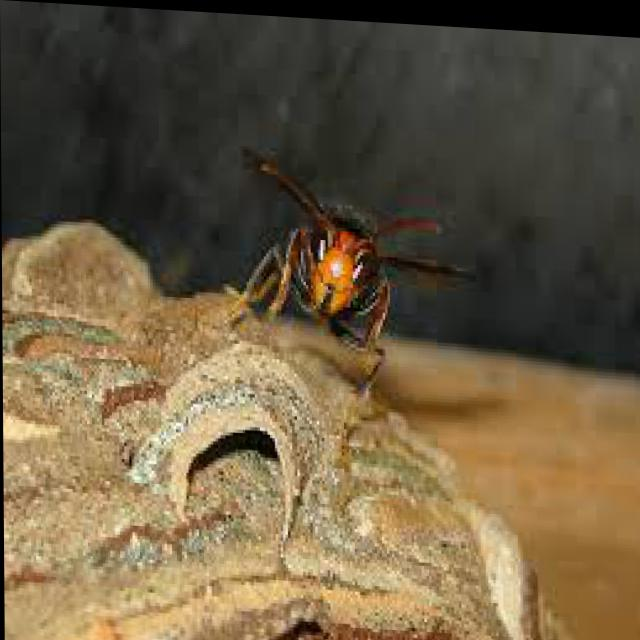Vespa Velutina: (226, 129, 484, 401)
